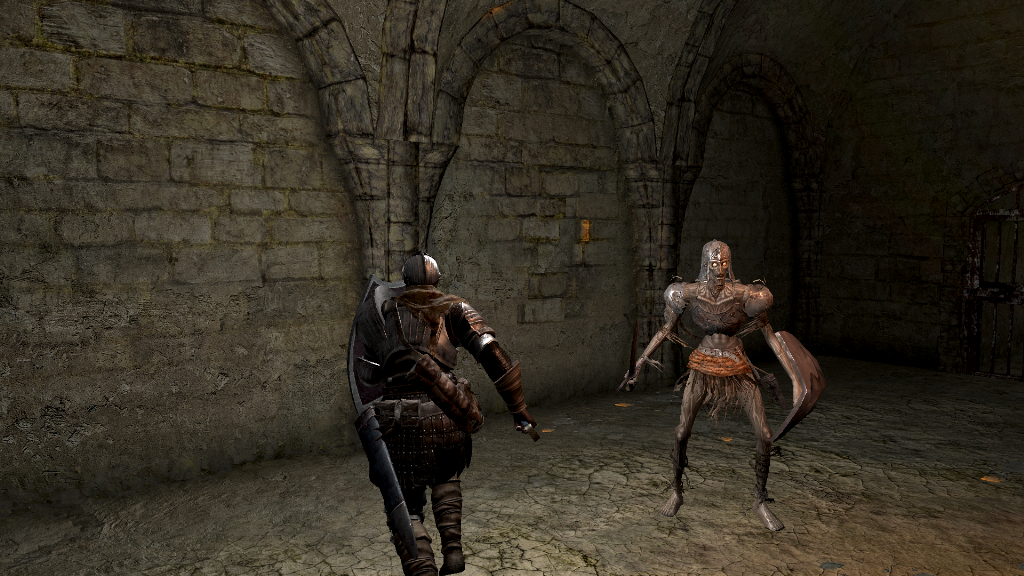player: (349, 253, 540, 576)
undeadSoldier: (619, 235, 827, 533)
